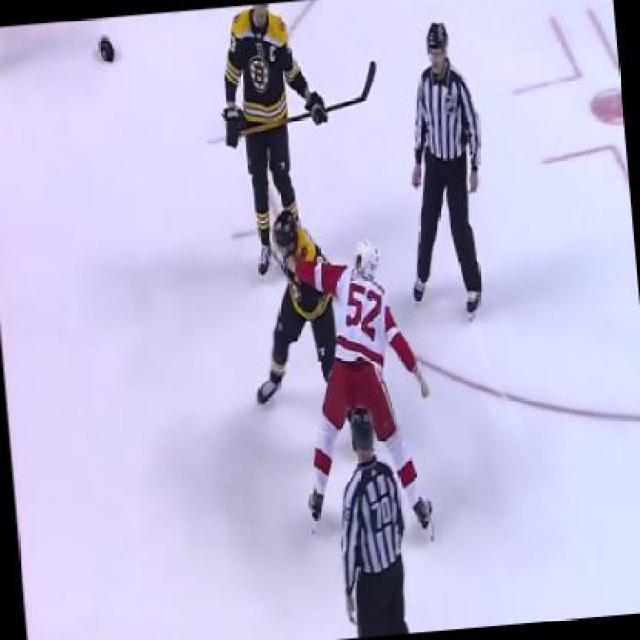fight: (241, 205, 436, 488), (388, 17, 497, 325)
